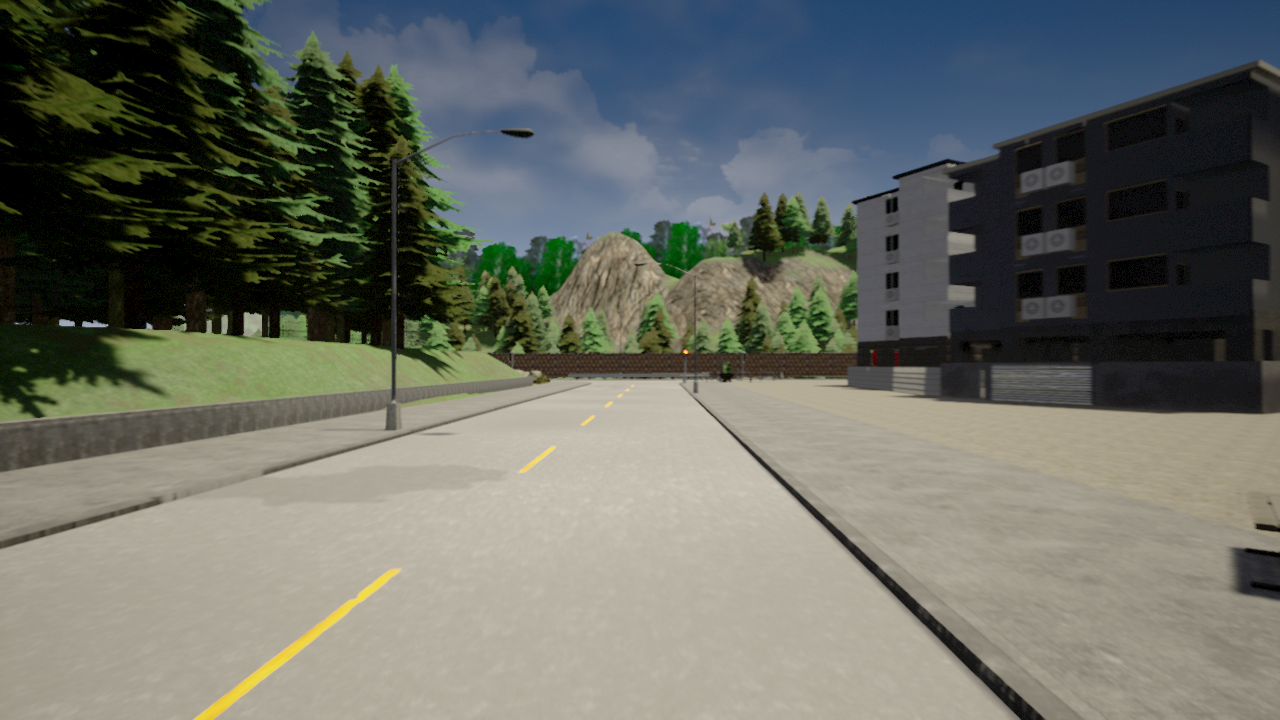red: (683, 348, 688, 361)
